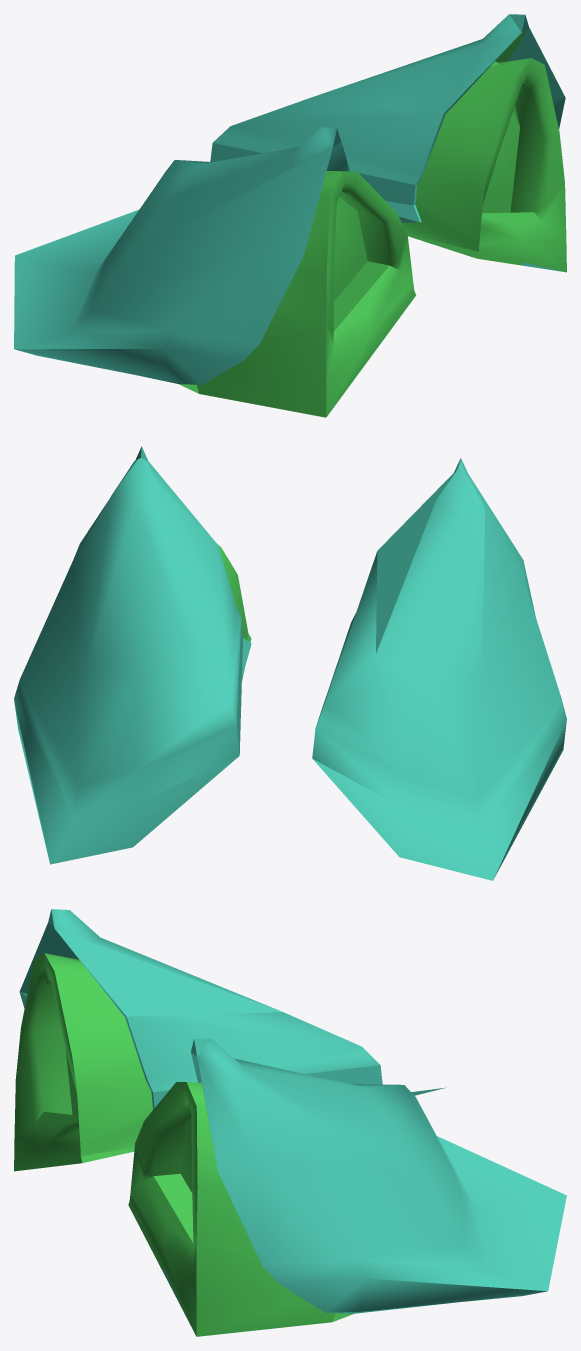
3 views of the same model, one above another, from view 1: azimuth 30°, elevation 25°; view 2: azimuth 150°, elevation 25°; view 3: azimuth 270°, elevation 25° (orthographic). The views are drawn at different scales.
Visible parts, largest first — view 1: Cube; view 2: Cube; view 3: Cube.
Boxes of the visible parts, bbox=[...] form: Cube: bbox=[14, 14, 566, 417]; Cube: bbox=[14, 446, 566, 880]; Cube: bbox=[14, 909, 566, 1336].
Size of the model in its own units: 99.84 by 93.93 by 55.17.
